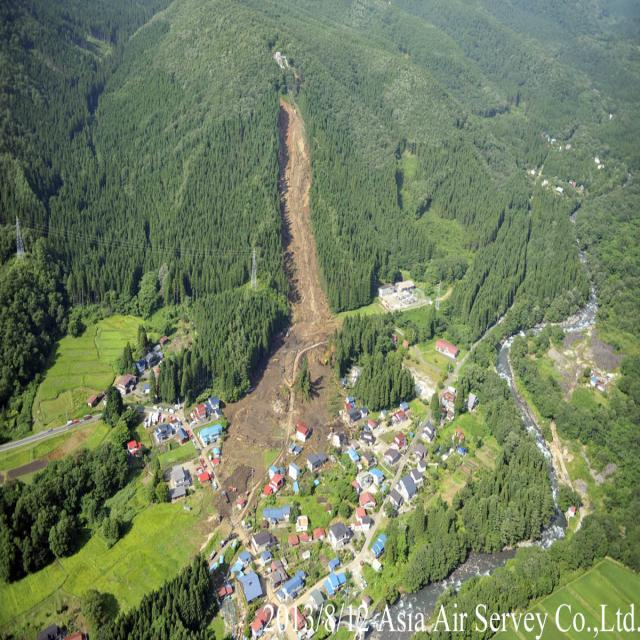Debris-flow: (222, 98, 335, 488)
